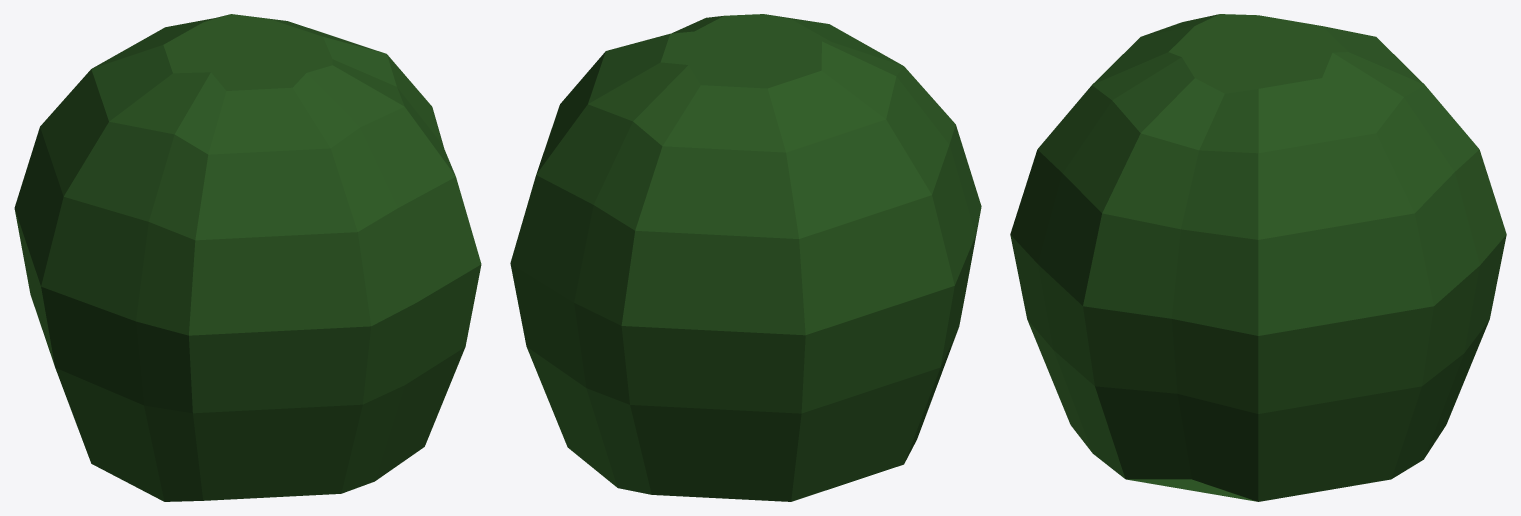
The model's file is grm.glb.
The picture shows the model from 3 angles, left to right: view 1: azimuth 30°, elevation 25°; view 2: azimuth 150°, elevation 25°; view 3: azimuth 270°, elevation 25°; orthographic projection.
Parts seen in each view (by area): view 1: Cylinder; view 2: Cylinder; view 3: Cylinder.
Boxes of the visible parts, bbox=[...] form: Cylinder: bbox=[14, 14, 481, 501]; Cylinder: bbox=[510, 14, 981, 501]; Cylinder: bbox=[1010, 14, 1506, 501].
Bounding box in the file's own units: 2.55 × 2.32 × 2.63.
